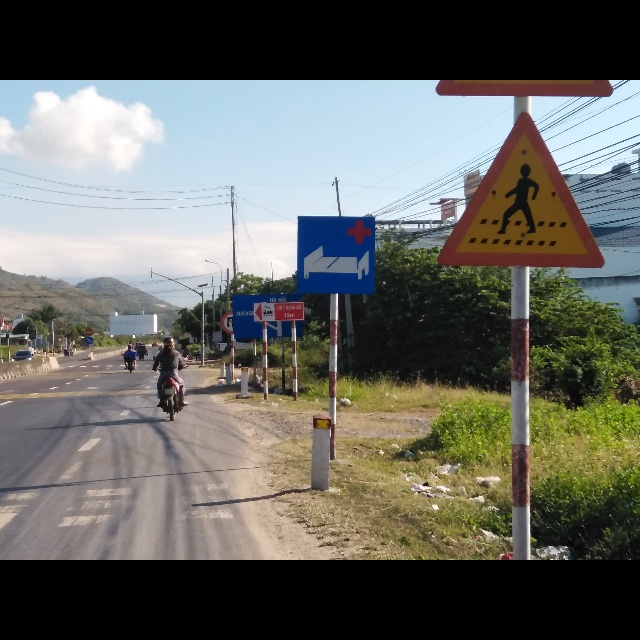Bệnh viện: (295, 218, 378, 294)
Đường người đi bộ sang đường: (437, 113, 611, 266)
